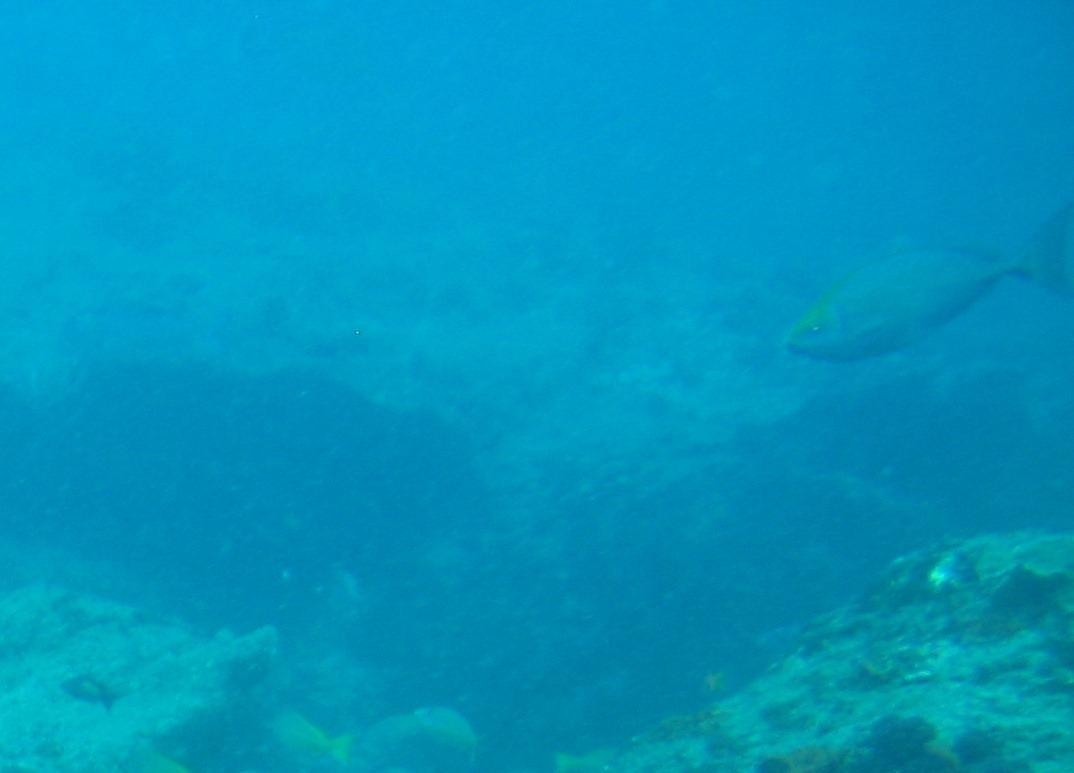Fish: (773, 202, 1074, 366)
